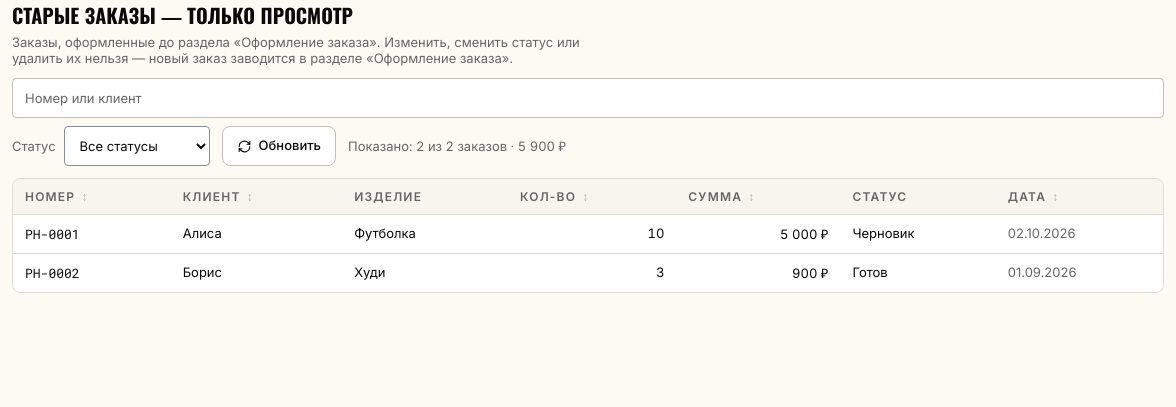
AdminPanel — старые заказы только просмотр › поиск и статус сужают список; пусто — «Ничего не найдено» со сбросом
Type "борис" into the search field named "Поиск по номеру или клиенту" at (588, 98), box [12,78,1164,118]
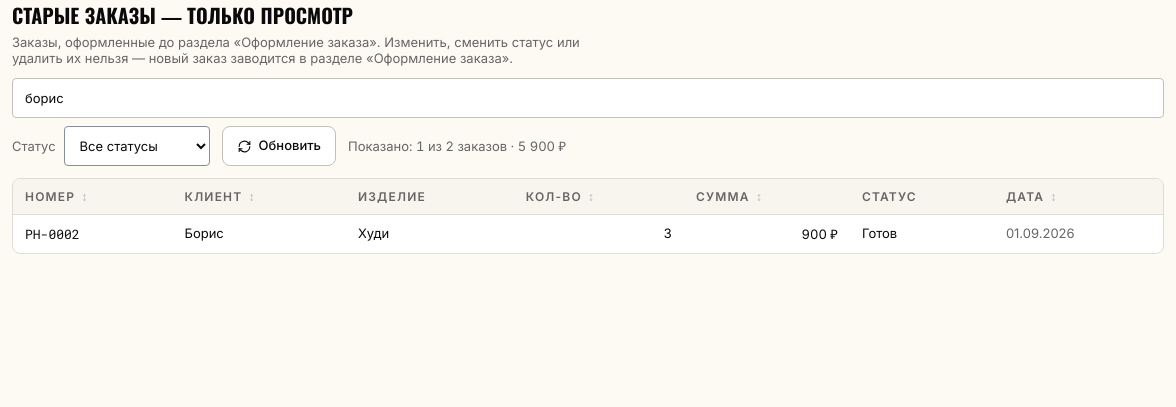
Expected: the text "PH-0002" is shown, [13,214,172,253]
Expected: the text "PH-0001" is gone
Select "Черновик" in the dropdown labelled "Статус" at (137, 146), box [64,126,210,166]
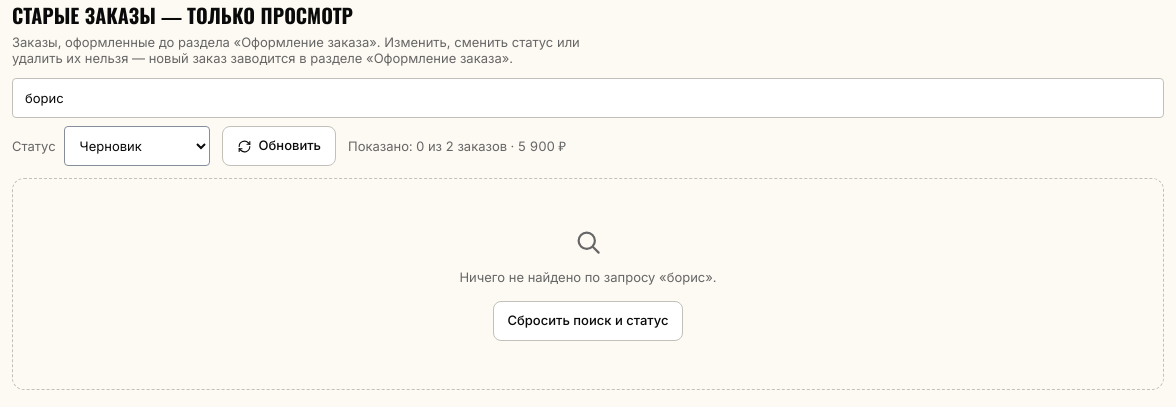
Expected: the text "Ничего не найдено по запросу «борис»." is shown, [459,269,717,285]
Click the button "Сбросить поиск и статус" at (588, 321), box [492,301,684,341]
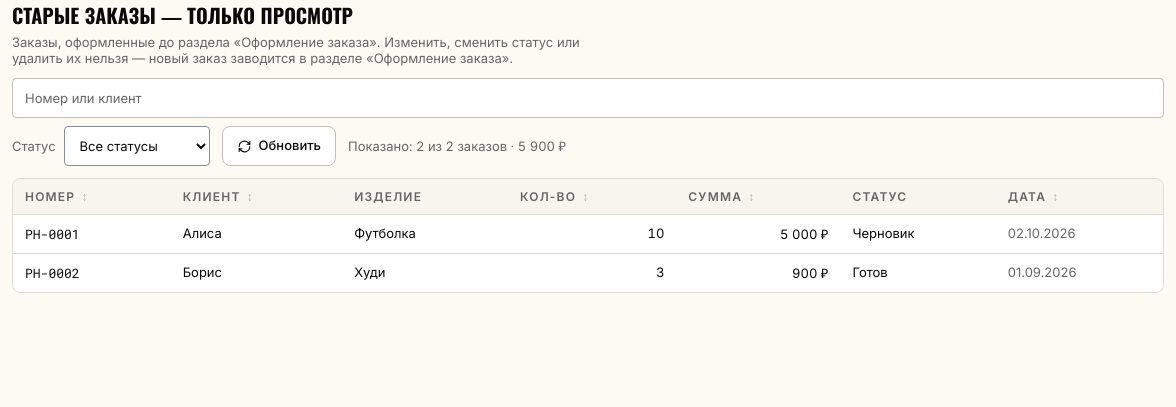
Expected: the text "PH-0001" is shown, [13,214,171,254]
